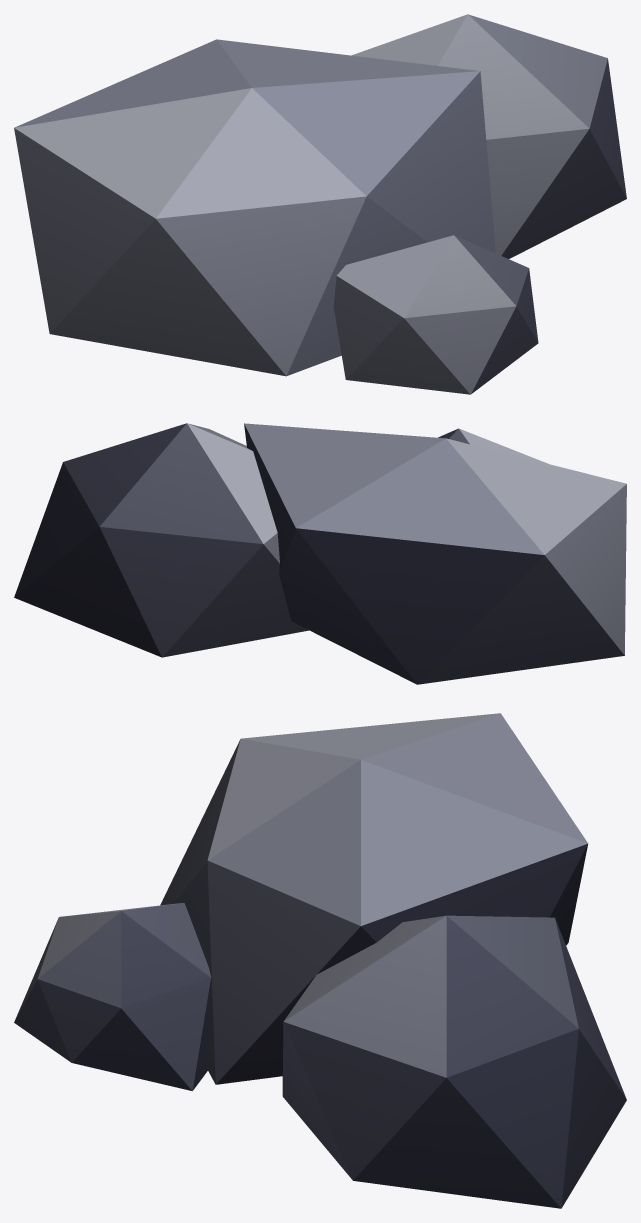
The model's file is rock_small_b.glb.
The picture shows the model from 3 angles, top to bottom: view 1: azimuth 30°, elevation 25°; view 2: azimuth 150°, elevation 25°; view 3: azimuth 270°, elevation 25°; orthographic projection. The views are drawn at different scales.
Visible parts, largest first — view 1: rock_small_b; view 2: rock_small_b; view 3: rock_small_b.
Part boxes in pixels (<box>): rock_small_b: <box>14,14,626,394</box>; rock_small_b: <box>14,423,626,684</box>; rock_small_b: <box>14,713,626,1208</box>.
Bounding box in the file's own units: 0.4486 × 0.1547 × 0.3581.
